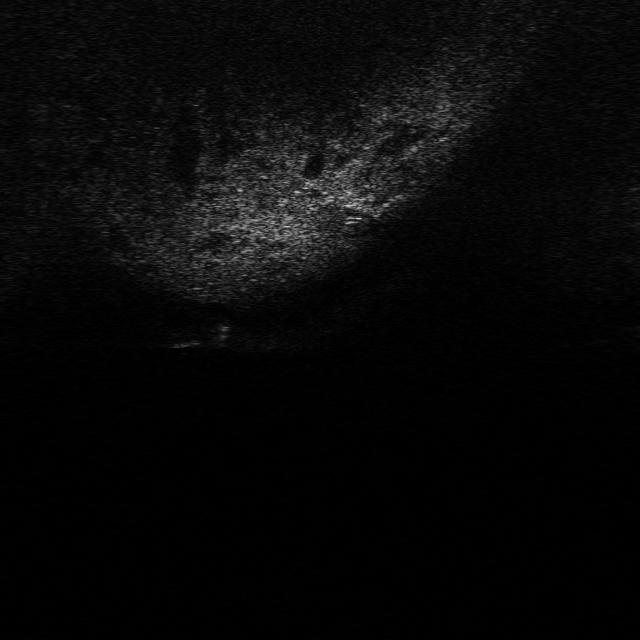cube: (166, 327, 203, 352)
cylinder: (207, 318, 233, 351)
